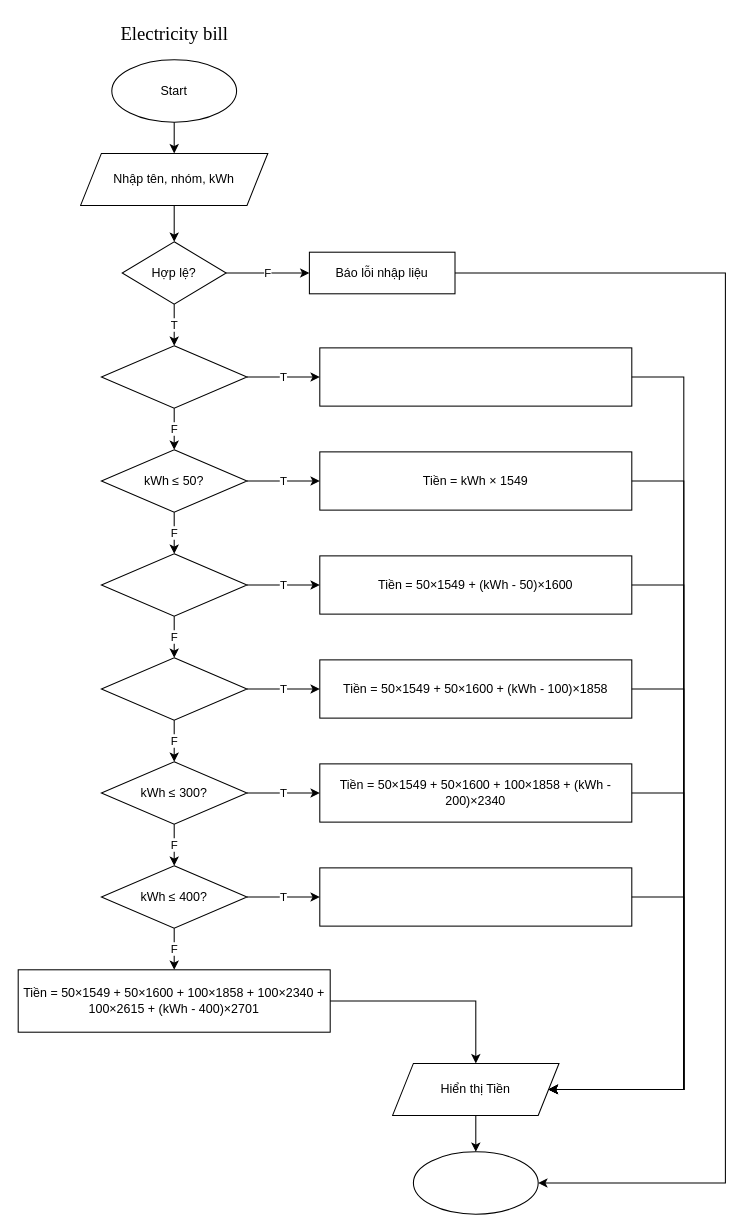
Some shapes in this 752 by 1232 pixel diagram are drawn without their labels. The centre of each missing label's shape, as x and y in pixels:
"End" belongs at [475,1182].
"kWh ≤ 100?" belongs at [173,584].
"kWh ≤ 200?" belongs at [173,688].
"Tiền = 50×1549 + 50×1600 + 100×1858 + 100×2340 + (kWh - 300)×2615" belongs at [475,896].
"Tiền = kWh × 2271" belongs at [475,376].
"Trả trước?" belongs at [173,376].
